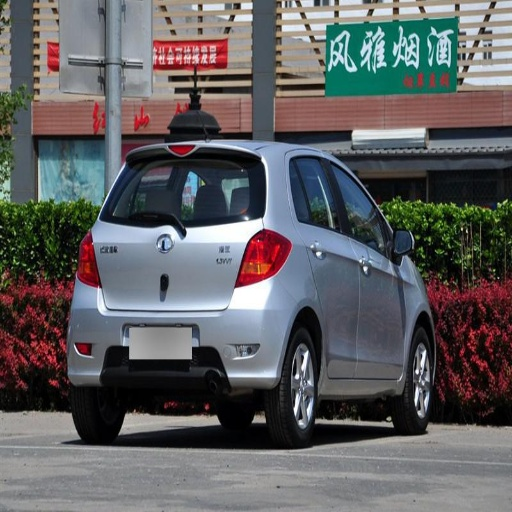back_bumper: (67, 276, 294, 389)
back_right_door: (293, 155, 363, 378)
trunk: (95, 223, 254, 311)
